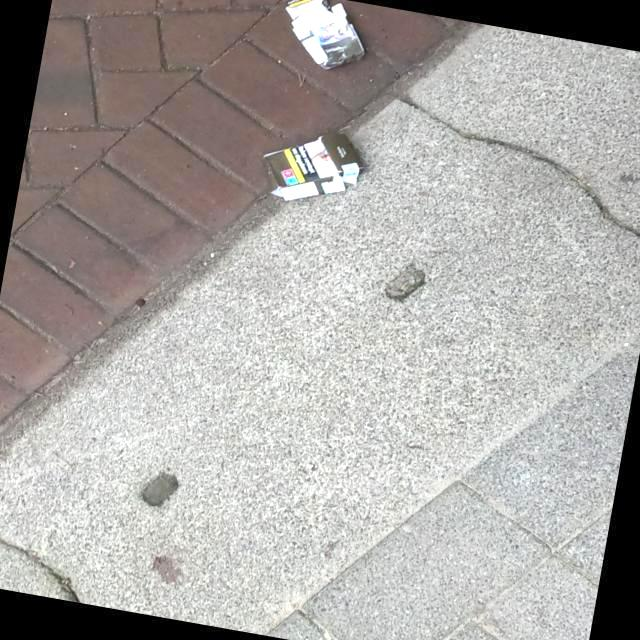Paper: (262, 125, 366, 202), (283, 0, 365, 70)
